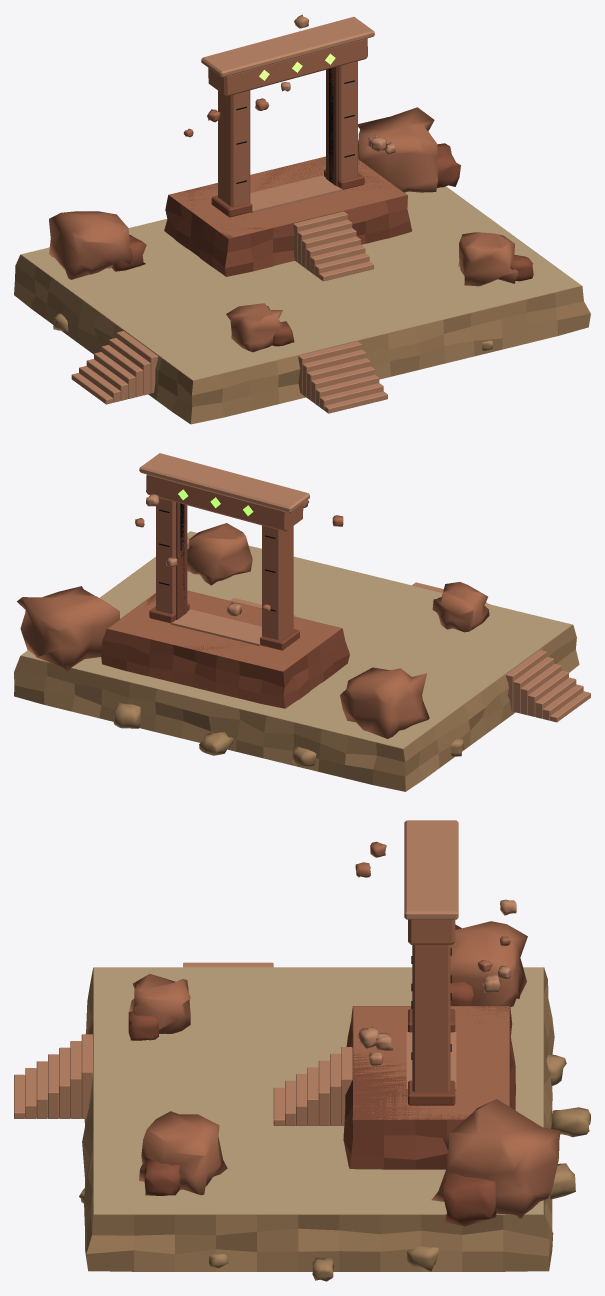
Rendered from tf-portal.glb.
The picture shows the model from 3 angles, top to bottom: view 1: azimuth 30°, elevation 25°; view 2: azimuth 150°, elevation 25°; view 3: azimuth 270°, elevation 25°; orthographic projection. The views are drawn at different scales.
Visible parts, largest first — view 1: tf-portal; view 2: tf-portal; view 3: tf-portal.
Part boxes in pixels (box(x1,y1,x2,y2)): tf-portal: box(14, 14, 590, 424); tf-portal: box(14, 453, 590, 791); tf-portal: box(14, 820, 590, 1281).
Size of the model in its own units: 31.3 by 14.68 by 25.56.
